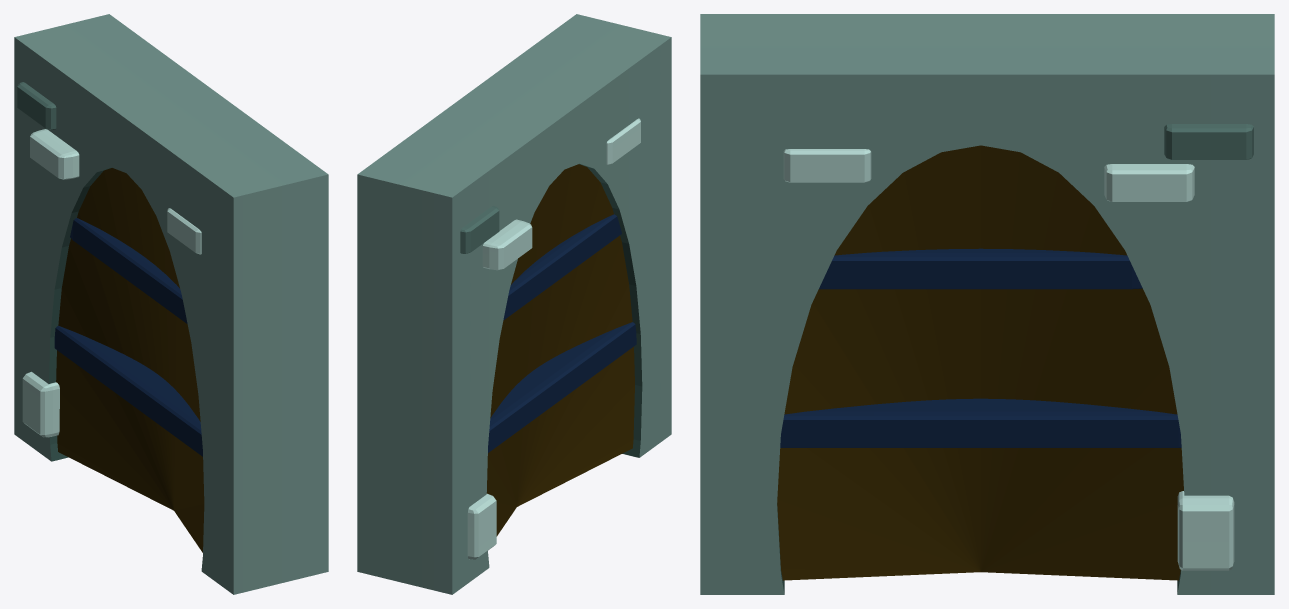
Rendered from door_t1_closed.fbx.
The picture shows the model from 3 angles, left to right: view 1: azimuth 30°, elevation 25°; view 2: azimuth 150°, elevation 25°; view 3: azimuth 270°, elevation 25°; orthographic projection. The views are drawn at different scales.
Visible parts, largest first — view 1: door2; view 2: door2; view 3: door2.
Boxes of the visible parts, left/top/right/bottom form: door2: left=14, top=14, right=328, bottom=594; door2: left=357, top=14, right=671, bottom=594; door2: left=700, top=14, right=1274, bottom=594.
Bounding box in the file's own units: 134 × 406 × 400.
